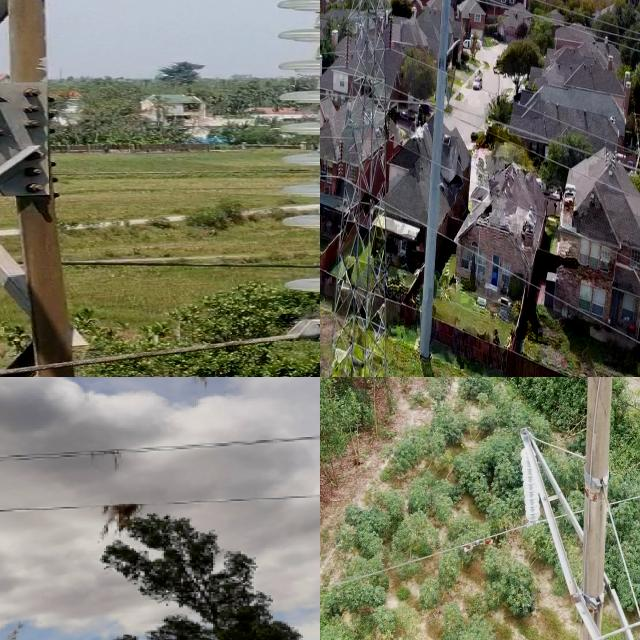杆塔: (0, 0, 320, 377), (322, 0, 395, 377)
植被遮挡: (186, 377, 216, 392)
正常电缆: (320, 486, 640, 600)
正常绝缘子: (262, 0, 320, 331), (516, 438, 542, 540), (336, 136, 346, 179), (344, 24, 351, 71), (387, 12, 395, 52), (386, 104, 393, 139)
